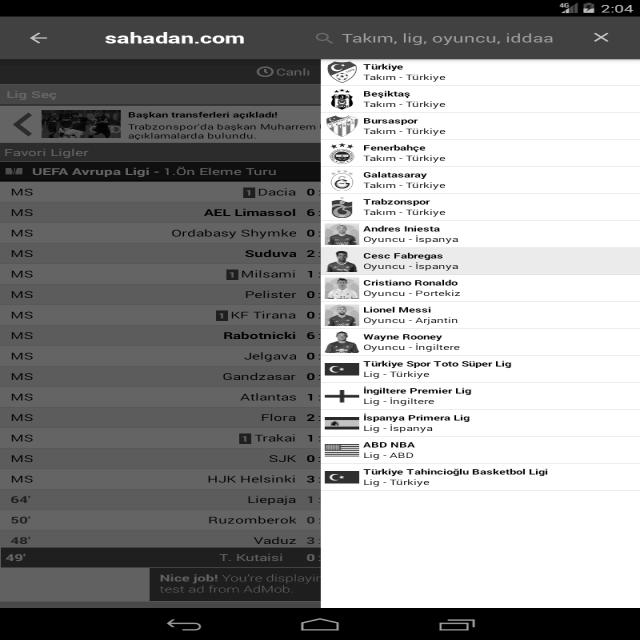ImageButton: (21, 27, 60, 49), (584, 28, 618, 46)
ImageView: (38, 109, 124, 139), (323, 113, 363, 139), (319, 465, 363, 487), (323, 59, 360, 85), (323, 275, 362, 299), (322, 221, 358, 245), (324, 88, 362, 110), (325, 169, 358, 193), (322, 332, 358, 352), (322, 386, 361, 402), (235, 432, 254, 446)
TextView: (130, 107, 319, 140), (30, 164, 279, 182), (95, 27, 252, 51), (358, 408, 476, 434), (362, 332, 462, 354), (360, 195, 449, 219), (362, 144, 448, 162), (214, 552, 288, 565), (6, 266, 38, 282)
